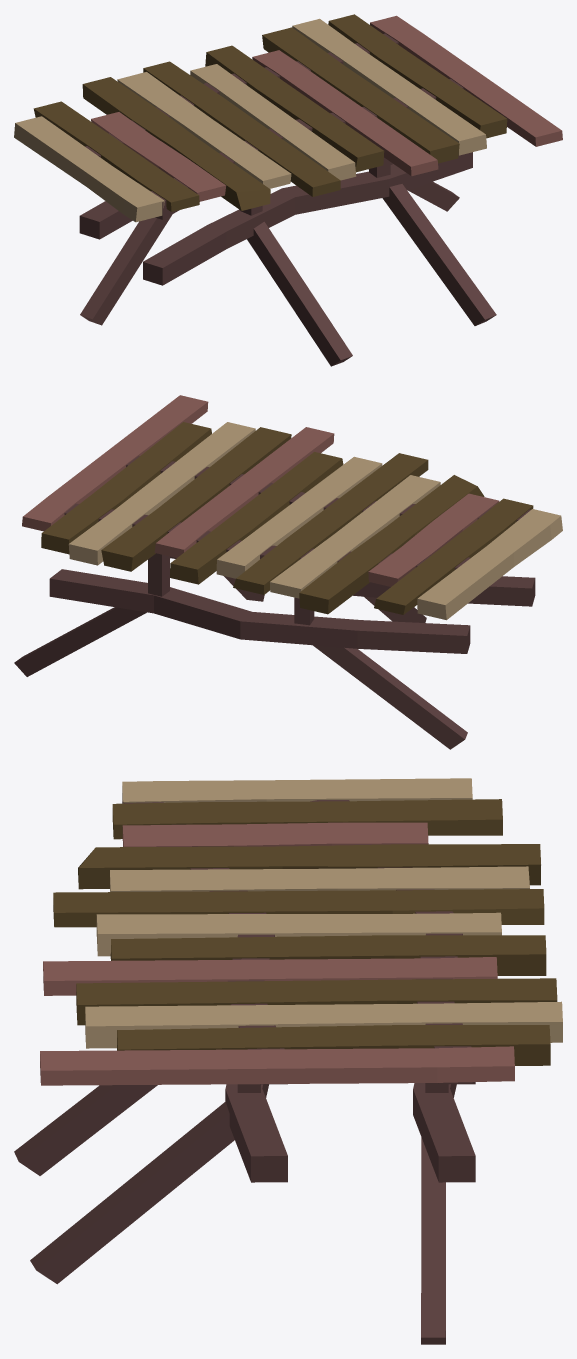
File: DarkRoseWoodBridgeSmallRicketyBridge1.fbx
3 renders of one model, top to bottom at view 1: azimuth 30°, elevation 25°; view 2: azimuth 150°, elevation 25°; view 3: azimuth 270°, elevation 25°, orthographic. The views are drawn at different scales.
Visible parts, largest first — view 1: DarkRoseWoodBridgeSmallRicketyBridge1; view 2: DarkRoseWoodBridgeSmallRicketyBridge1; view 3: DarkRoseWoodBridgeSmallRicketyBridge1.
Part boxes in pixels (x1,y1,x2,y2): DarkRoseWoodBridgeSmallRicketyBridge1: (14,14,562,366); DarkRoseWoodBridgeSmallRicketyBridge1: (14,395,562,749); DarkRoseWoodBridgeSmallRicketyBridge1: (14,778,562,1344).
Size of the model in its own units: 1266 by 501 by 942.
4 materials, 4 textured.
